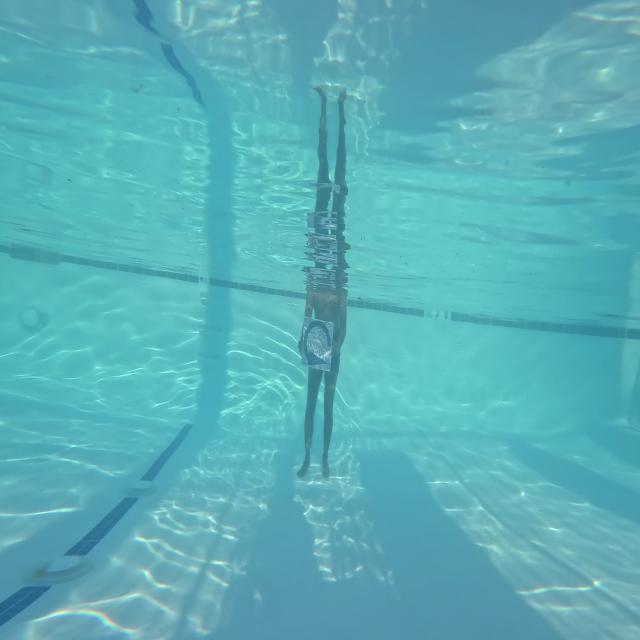blue_side: (300, 311, 342, 383)
